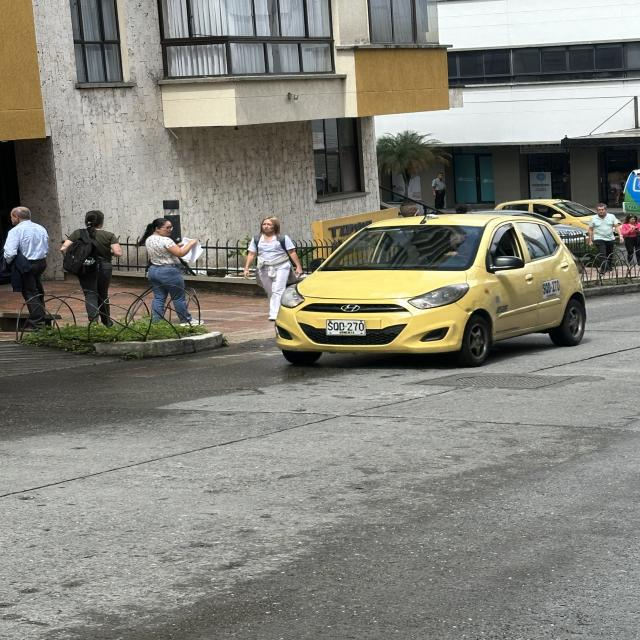number plate: (326, 319, 366, 336)
